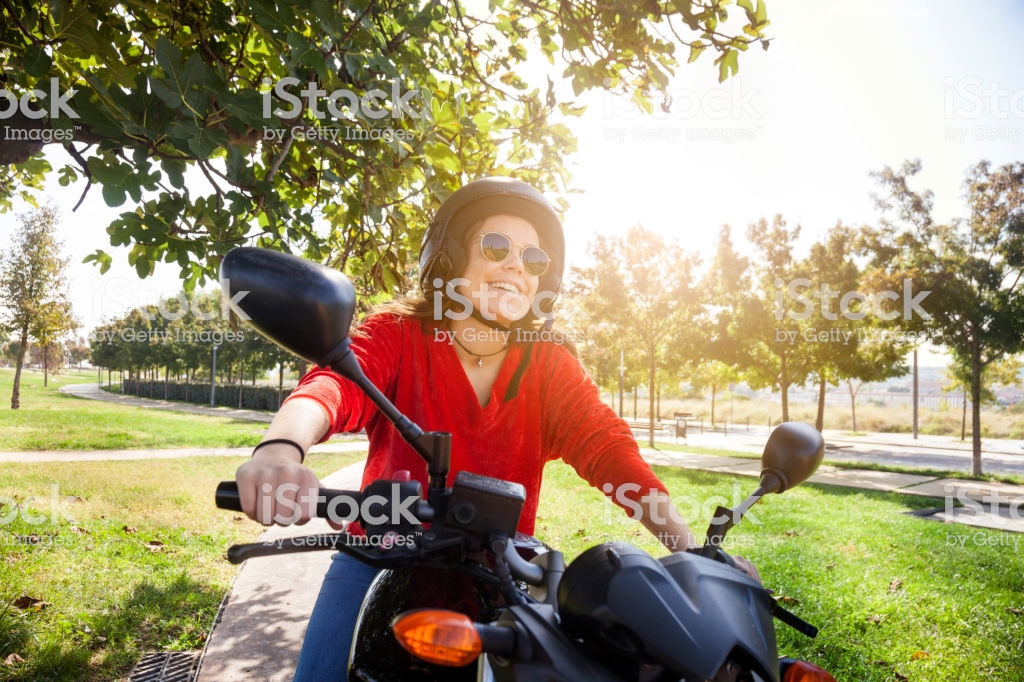helmet: (420, 188, 571, 305)
